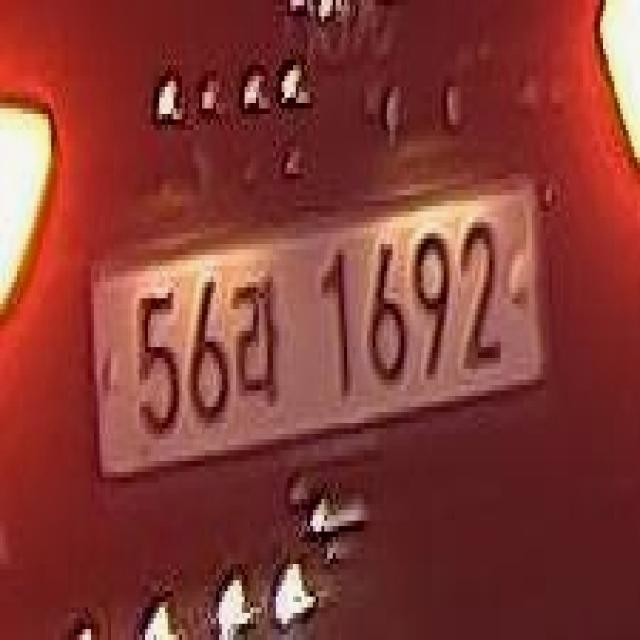illegal_plate: (84, 176, 550, 506)
